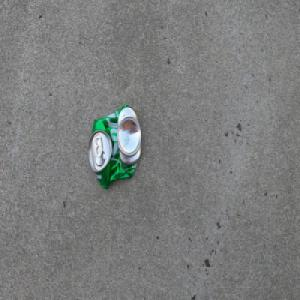SodaCan: (88, 103, 142, 191)
